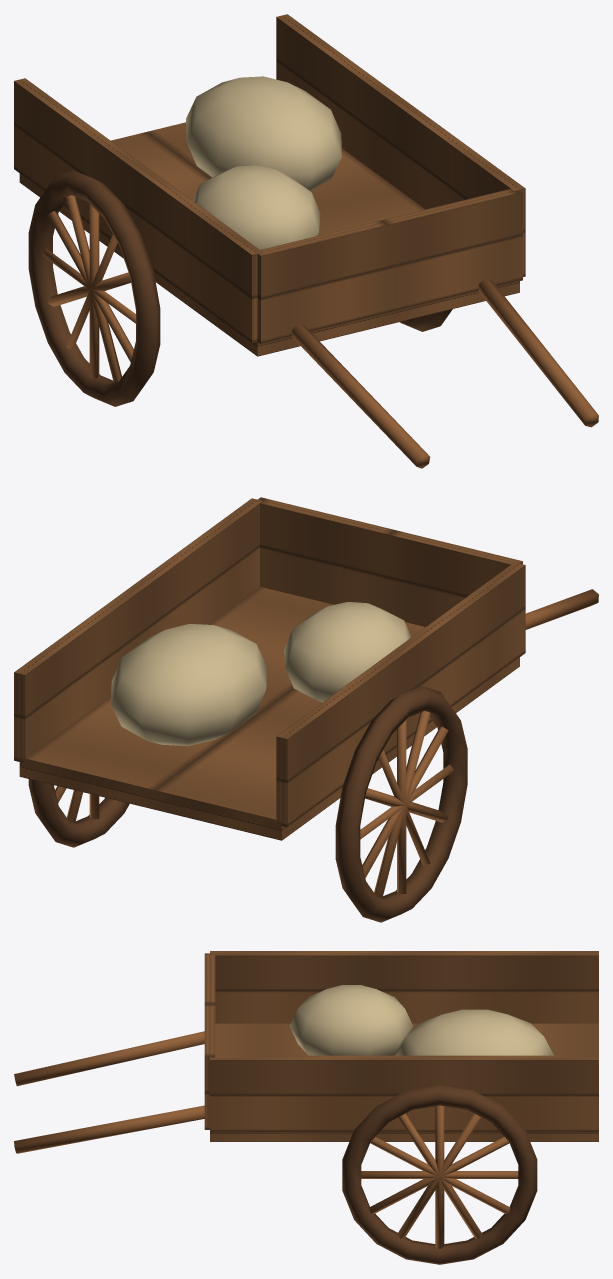
File: prop_gerobak.glb
3 renders of one model, top to bottom at view 1: azimuth 30°, elevation 25°; view 2: azimuth 150°, elevation 25°; view 3: azimuth 270°, elevation 25°, orthographic. The views are drawn at different scales.
Parts seen in each view (by area): view 1: gerobak; view 2: gerobak; view 3: gerobak.
Boxes of the visible parts, x1,y1,x2,y2 form: gerobak: [14, 14, 598, 468]; gerobak: [14, 497, 598, 922]; gerobak: [14, 951, 598, 1264].
Bounding box in the file's own units: 1.75 × 1.26 × 3.31.
Materials: 4 (1 with a texture image).
